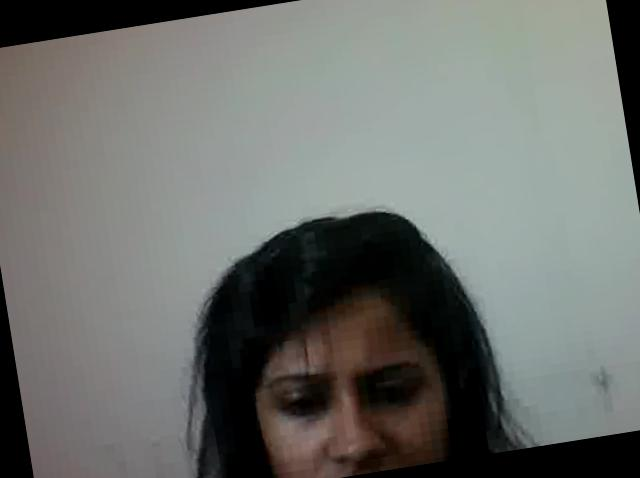bosan: (241, 282, 464, 478)
